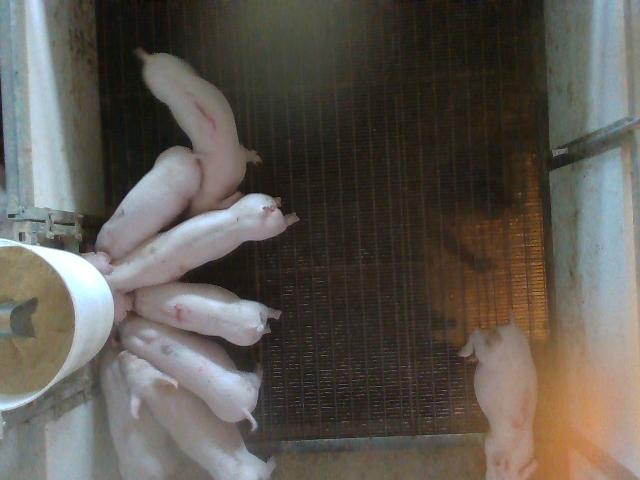pig-1: (136, 49, 261, 217)
pig-3: (460, 316, 538, 478)
pig-4: (134, 282, 279, 346)
